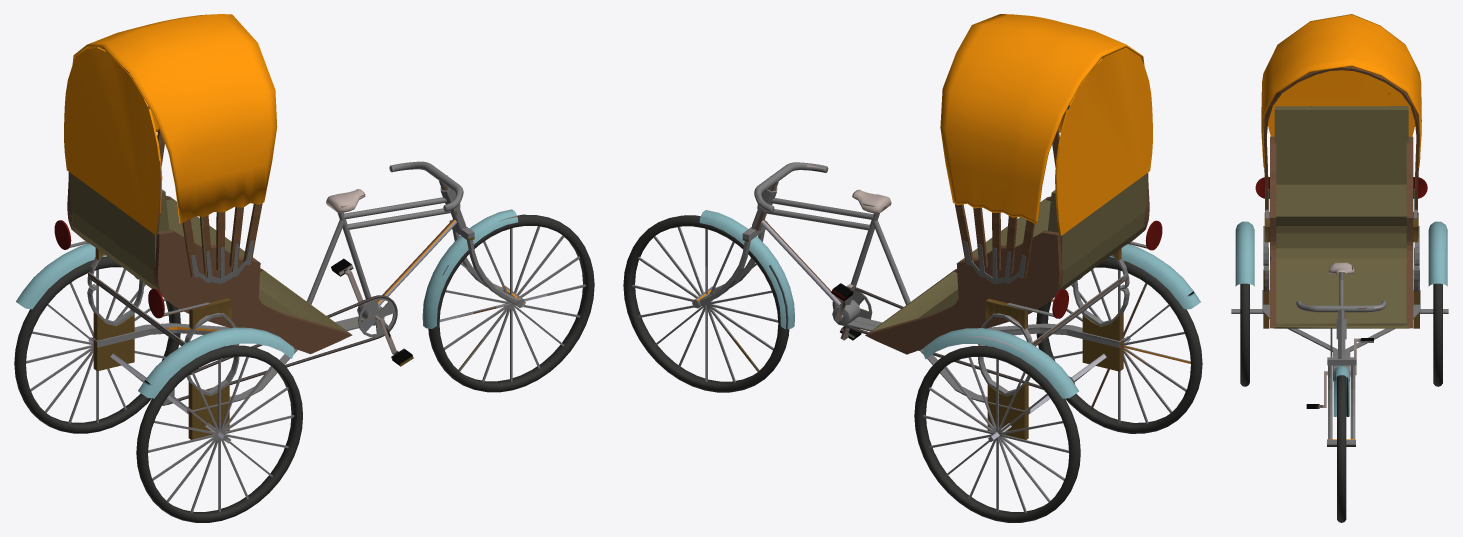
The model's file is rickshaw .fbx.
The picture shows the model from 3 angles, left to right: view 1: azimuth 30°, elevation 25°; view 2: azimuth 150°, elevation 25°; view 3: azimuth 270°, elevation 25°; orthographic projection. The views are drawn at different scales.
Parts seen in each view (by area): view 1: Model_rickshaw; view 2: Model_rickshaw; view 3: Model_rickshaw.
Part boxes in pixels (x1,y1,x2,y2): Model_rickshaw: [14, 14, 594, 522]; Model_rickshaw: [623, 14, 1202, 522]; Model_rickshaw: [1231, 14, 1448, 522].
Bounding box in the file's own units: 3423 × 2814 × 1575.
Materials: 1 (1 with a texture image).
